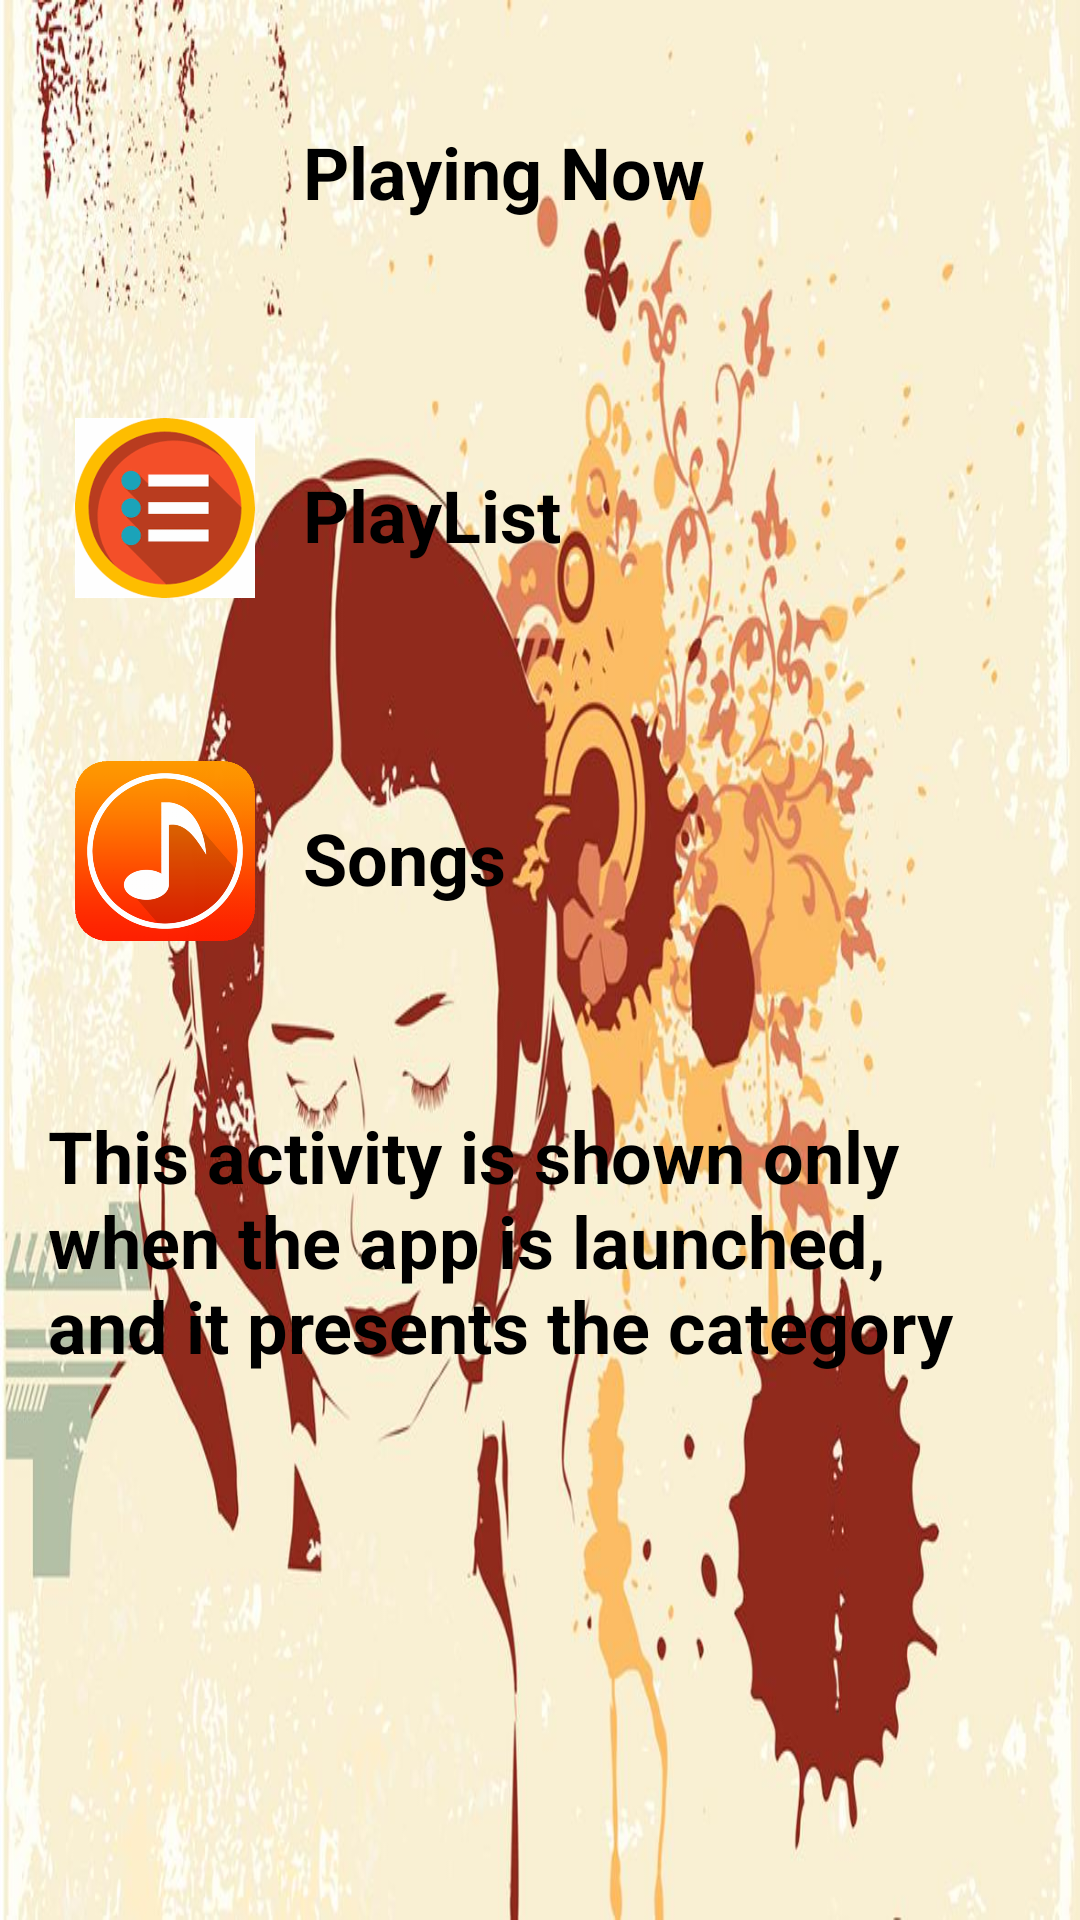

Screen size 1080 x 1920. Icon name, then its box in pixels as (x1, y1, x2, y2):
musiclist: (75, 418, 255, 598)
